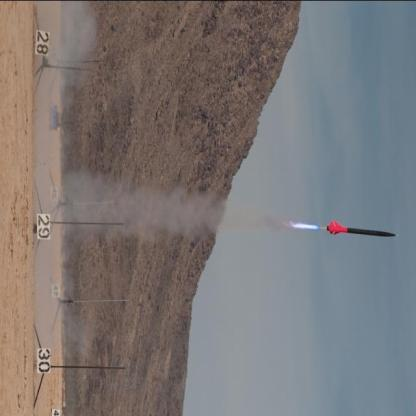MIL_TBM: (327, 220, 396, 236)
